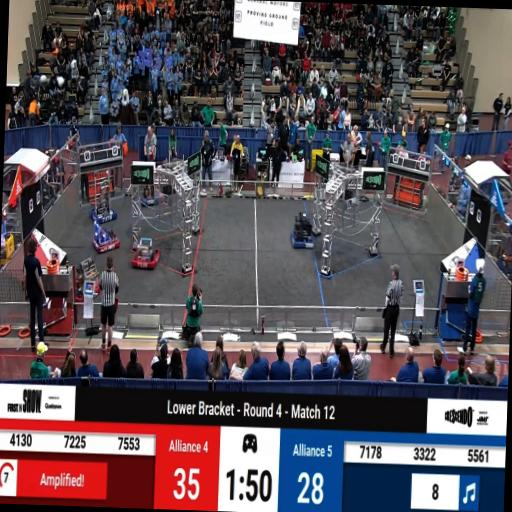robot: (73, 256, 101, 298), (130, 238, 161, 270), (291, 212, 318, 248), (92, 221, 120, 254), (90, 198, 116, 224)
